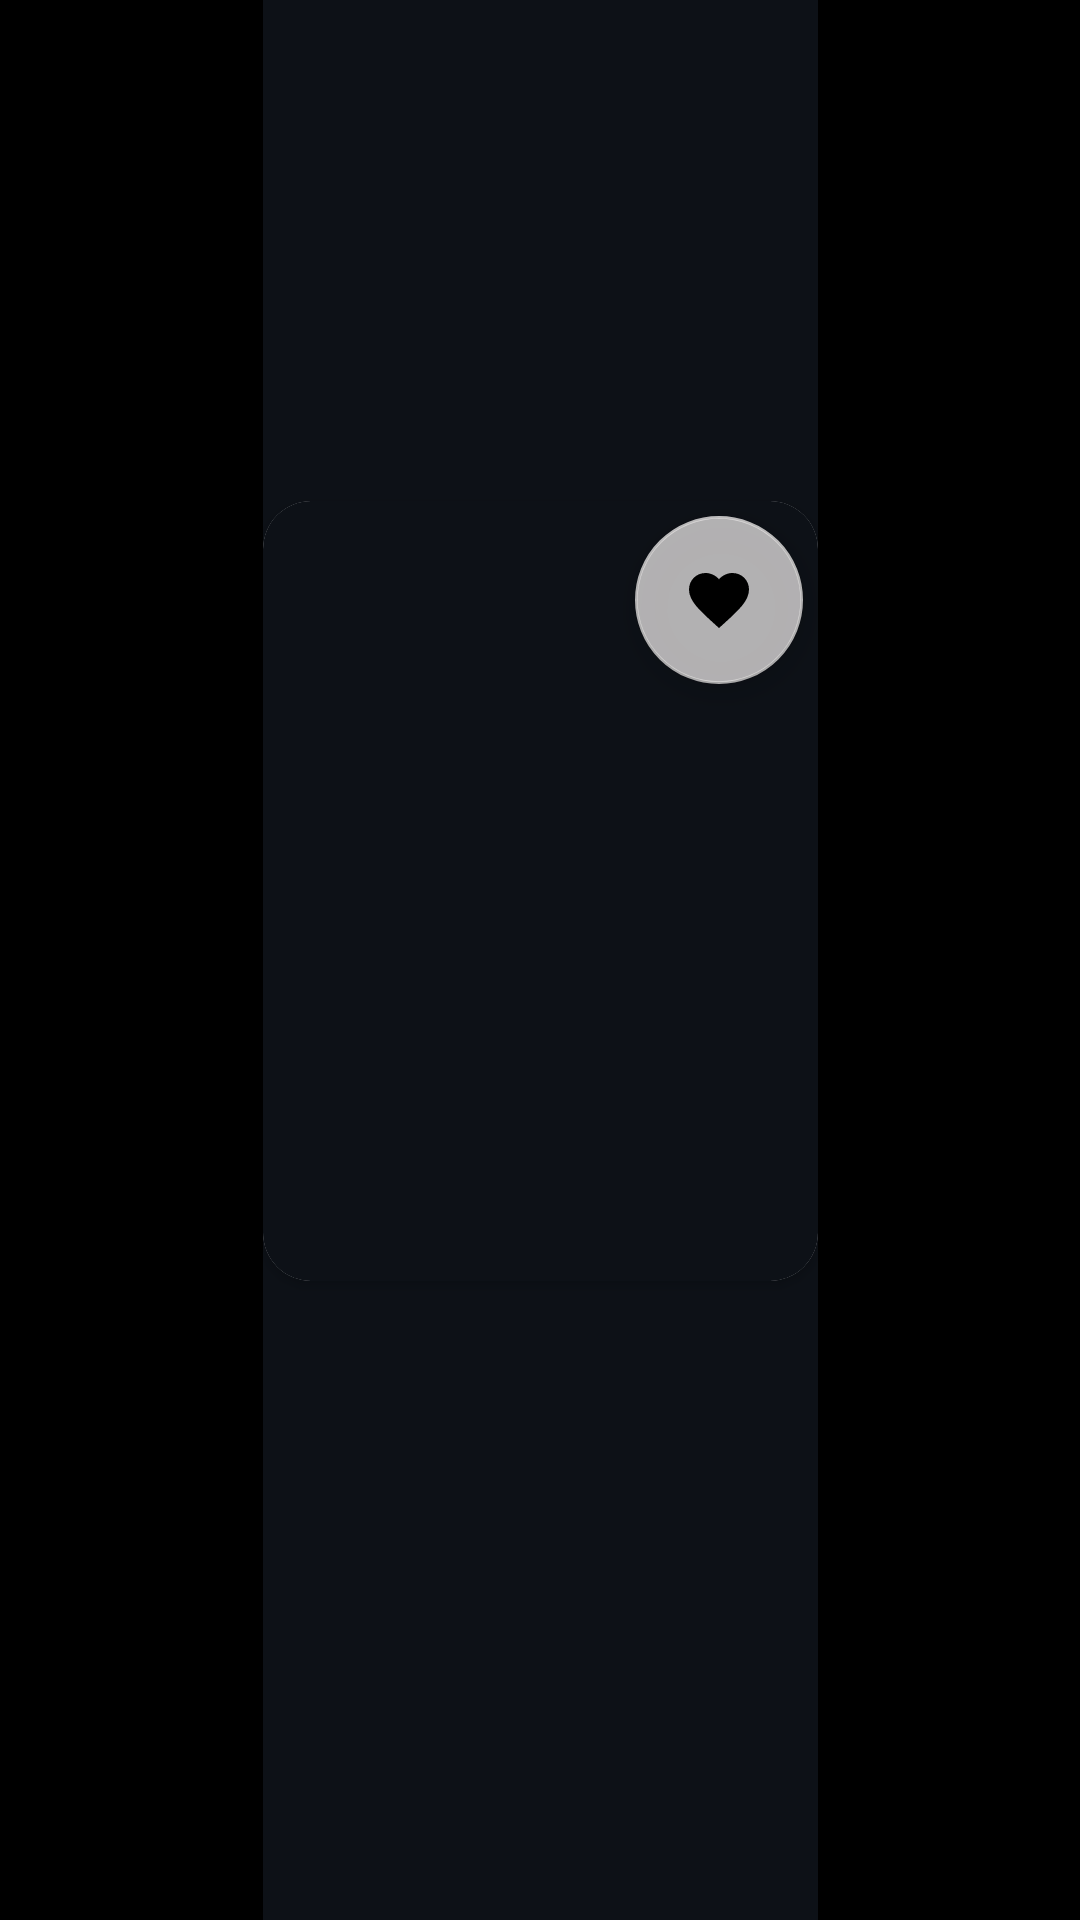

Icons on this 1080×1920 Android screen, each with its box as (x1, y1, x2, y2):
favorite: (635, 516, 803, 684)
